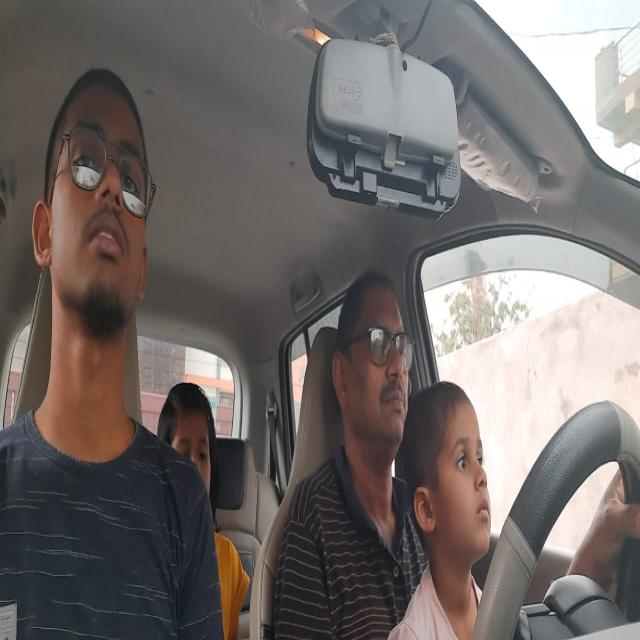child: (403, 384, 498, 575)
person: (33, 62, 158, 350), (329, 270, 410, 471), (157, 368, 220, 540)
